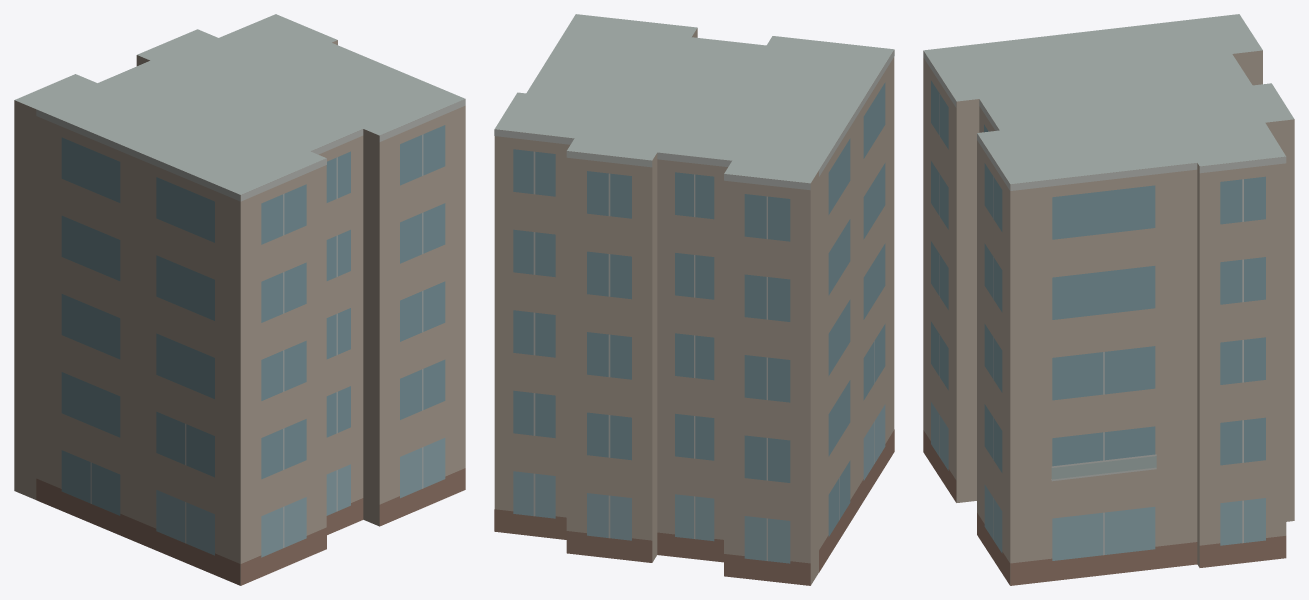
The model's file is survey-upis-32723390.glb.
3 views of the same model, side by side, from view 1: azimuth 30°, elevation 25°; view 2: azimuth 150°, elevation 25°; view 3: azimuth 270°, elevation 25° (orthographic). The views are drawn at different scales.
Visible parts, largest first — view 1: survey-upis-32723390.tmp; view 2: survey-upis-32723390.tmp; view 3: survey-upis-32723390.tmp.
Part boxes in pixels (x1,y1,x2,y2): survey-upis-32723390.tmp: [14, 14, 465, 585]; survey-upis-32723390.tmp: [494, 14, 894, 585]; survey-upis-32723390.tmp: [923, 14, 1294, 585].
Bounding box in the file's own units: 13.01 × 14.3 × 11.99.
